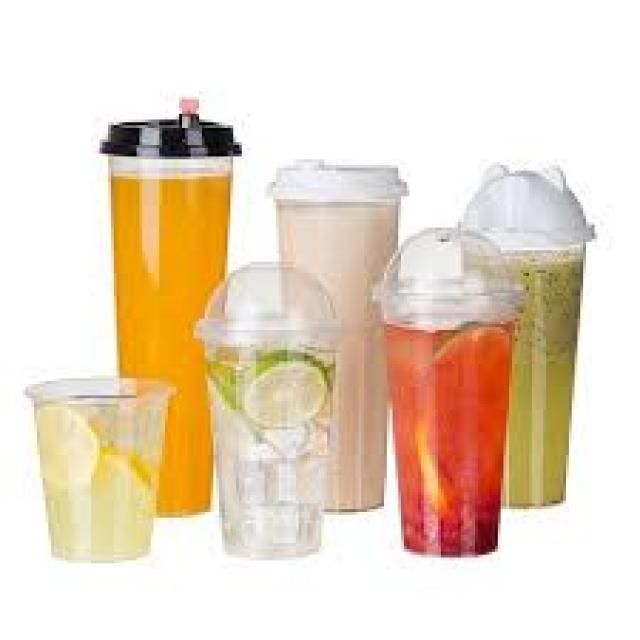bottle: (198, 318, 340, 558), (388, 324, 511, 556), (32, 378, 175, 561)
